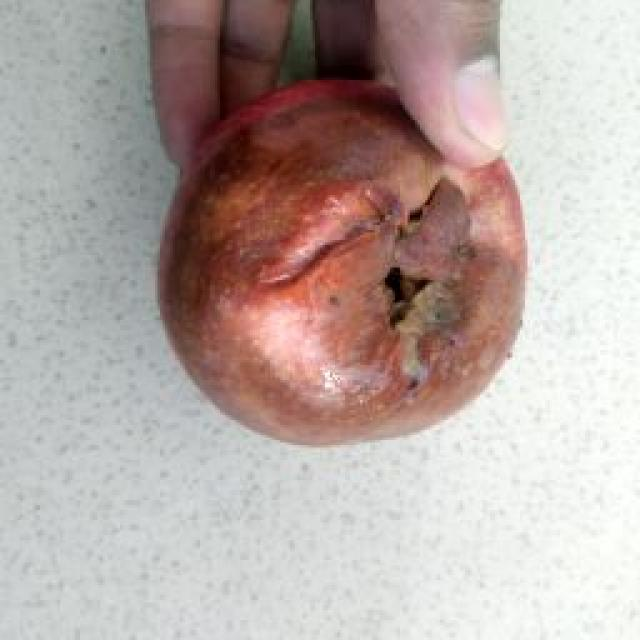Bad_Apple: (161, 82, 524, 444)
